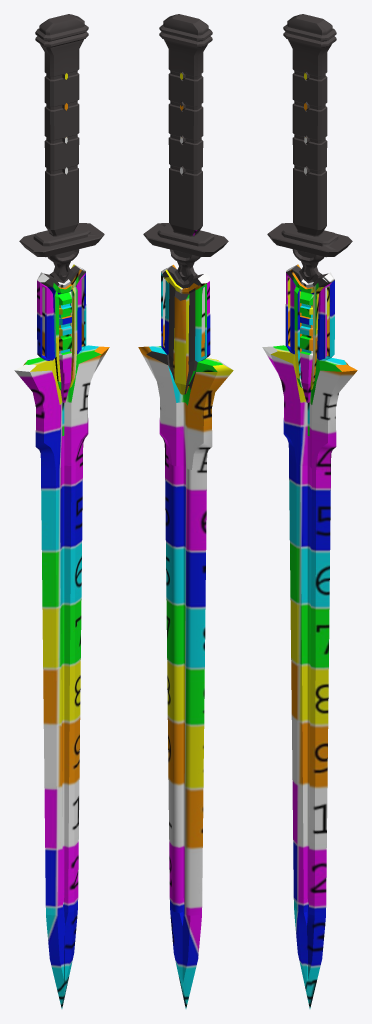
The model's file is Sword One Material.obj.
3 renders of one model, left to right at view 1: azimuth 30°, elevation 25°; view 2: azimuth 150°, elevation 25°; view 3: azimuth 330°, elevation 25°, orthographic.
Parts seen in each view (by area): view 1: Sword1:Sword:Sword:Sword:textureEditorIsolateSelectSet, default; view 2: Sword1:Sword:Sword:Sword:textureEditorIsolateSelectSet, default; view 3: Sword1:Sword:Sword:Sword:textureEditorIsolateSelectSet, default.
Part boxes in pixels (box(x1,y1,x2,y2)): Sword1:Sword:Sword:Sword:textureEditorIsolateSelectSet: box(14, 346, 109, 1008); default: box(19, 14, 104, 435); Sword1:Sword:Sword:Sword:textureEditorIsolateSelectSet: box(138, 346, 232, 1008); default: box(143, 14, 233, 405); Sword1:Sword:Sword:Sword:textureEditorIsolateSelectSet: box(262, 346, 357, 1008); default: box(267, 14, 352, 435).
Size of the model in its own units: 1.52 by 15.04 by 0.567.
